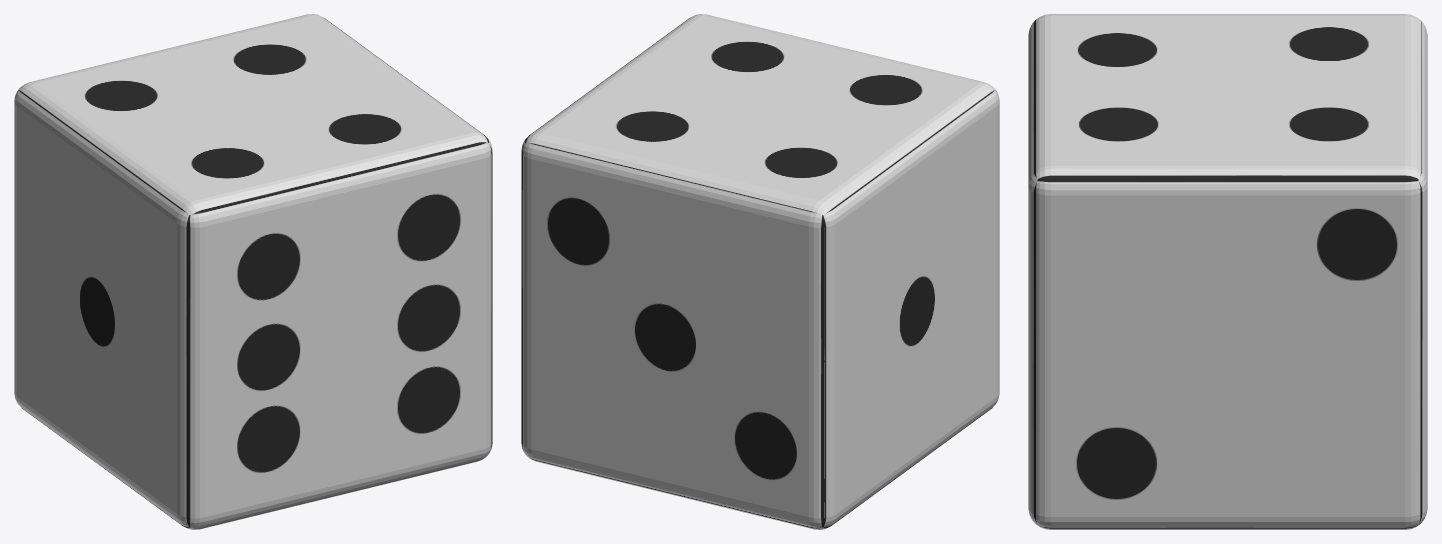
File: dice1.fbx
3 renders of one model, left to right at view 1: azimuth 30°, elevation 25°; view 2: azimuth 150°, elevation 25°; view 3: azimuth 270°, elevation 25°, orthographic. The views are drawn at different scales.
Visible parts, largest first — view 1: Cube; view 2: Cube; view 3: Cube.
Part boxes in pixels (x1,y1,x2,y2): Cube: (14, 14, 492, 529); Cube: (521, 14, 999, 529); Cube: (1028, 14, 1427, 529).
Bounding box in the file's own units: 200 × 200 × 200.
1 material, 1 textured.
